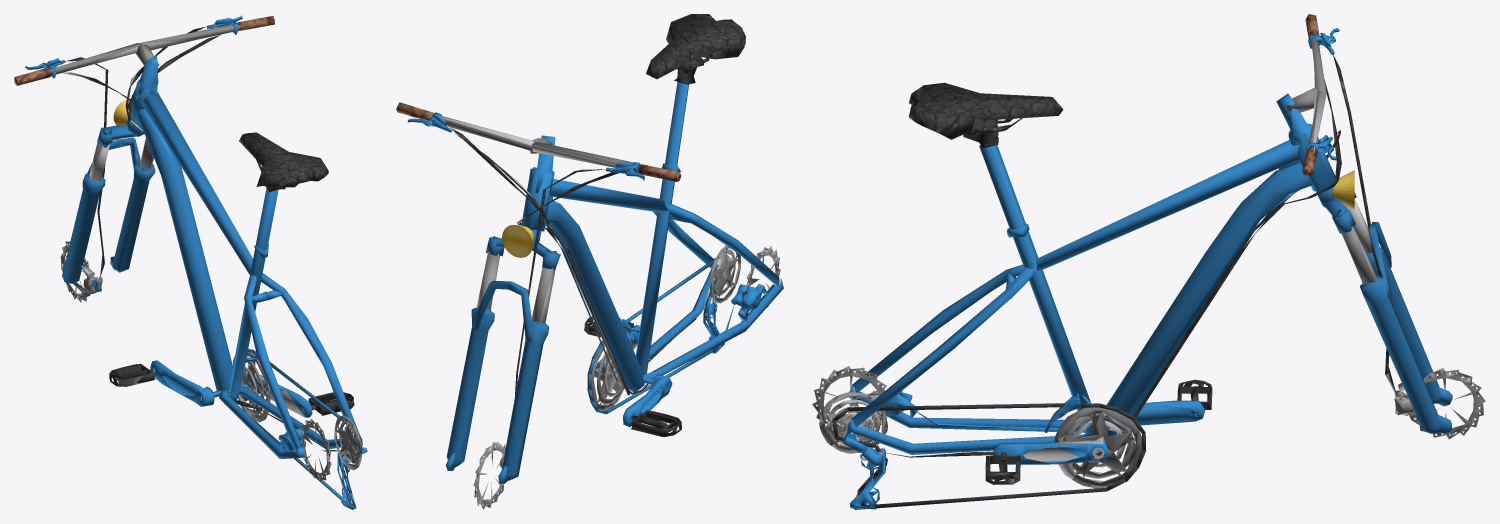
Rendered from Bicycle_Body_MTB.fbx.
3 views of the same model, side by side, from view 1: azimuth 30°, elevation 25°; view 2: azimuth 150°, elevation 25°; view 3: azimuth 270°, elevation 25° (orthographic). The views are drawn at different scales.
Visible parts, largest first — view 1: Bicycle_body, Bicycle_front_suspension, Bicycle_seat; view 2: Bicycle_body, Bicycle_front_suspension, Bicycle_seat, Bicycle_headlight; view 3: Bicycle_body, Bicycle_front_suspension, Bicycle_seat.
Part boxes in pixels (bbox=[...]): Bicycle_body: bbox=[14, 15, 367, 509]; Bicycle_front_suspension: bbox=[62, 118, 155, 283]; Bicycle_seat: bbox=[239, 132, 328, 192]; Bicycle_body: bbox=[396, 81, 783, 509]; Bicycle_front_suspension: bbox=[446, 229, 560, 483]; Bicycle_seat: bbox=[646, 14, 745, 84]; Bicycle_headlight: bbox=[502, 225, 533, 257]; Bicycle_body: bbox=[812, 14, 1485, 509]; Bicycle_front_suspension: bbox=[1316, 187, 1452, 433]; Bicycle_seat: bbox=[909, 82, 1063, 148].
Size of the model in its own units: 91.54 by 115 by 171.
